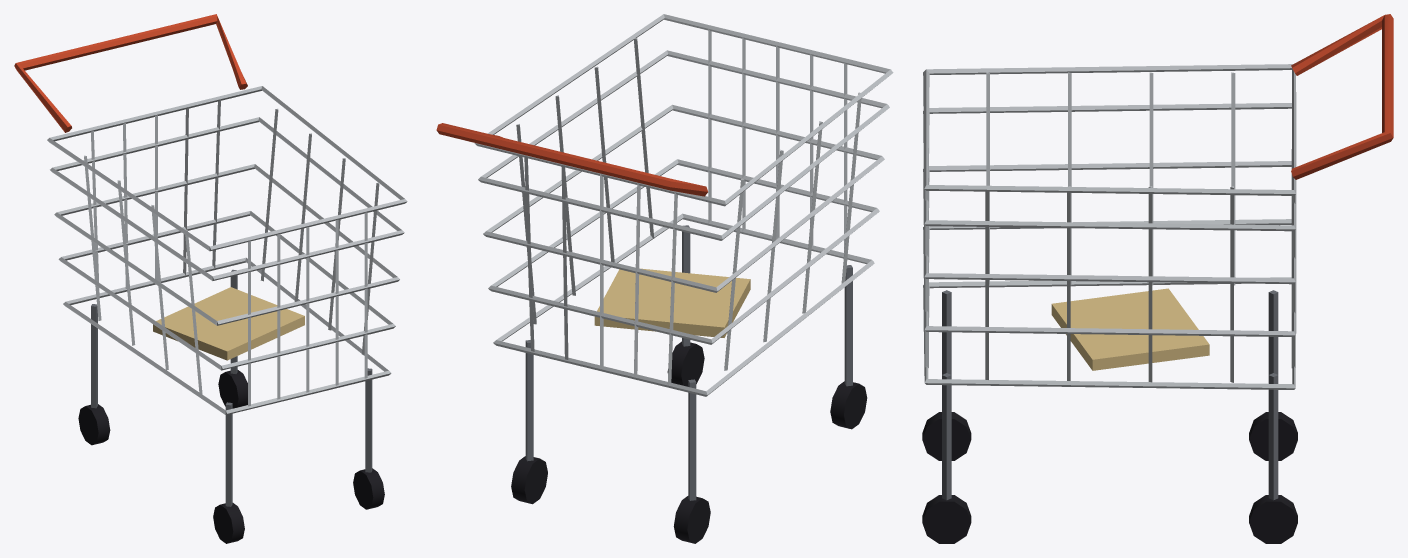
File: shopping_cart.glb
3 views of the same model, side by side, from view 1: azimuth 30°, elevation 25°; view 2: azimuth 150°, elevation 25°; view 3: azimuth 270°, elevation 25° (orthographic). The views are drawn at different scales.
Parts seen in each view (by area): view 1: shopping_cart; view 2: shopping_cart; view 3: shopping_cart.
Boxes of the visible parts, x1,y1,x2,y2 form: shopping_cart: [14, 14, 407, 543]; shopping_cart: [436, 14, 893, 543]; shopping_cart: [922, 14, 1393, 543].
Bounding box in the file's own units: 0.7426 × 1.15 × 1.15.
